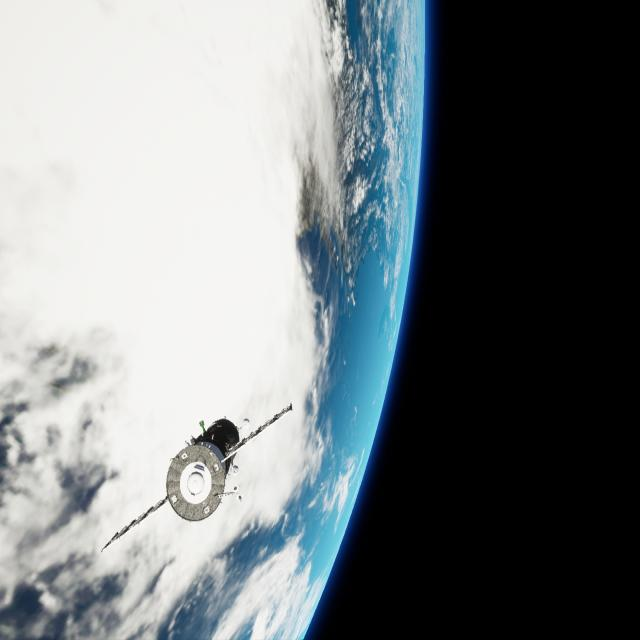Satellites revolving around earth: (1, 1, 428, 638), (99, 400, 293, 554)
